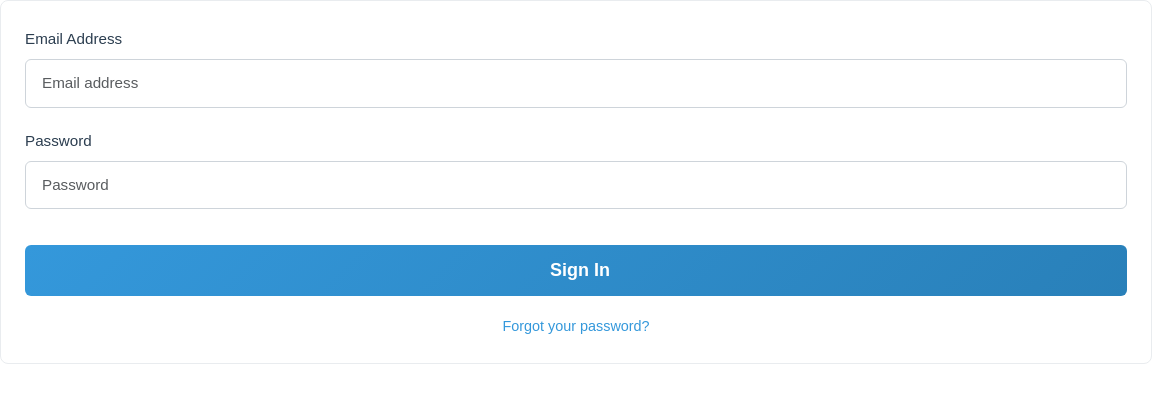
Test: UserLogin › shows error message when login fails
Type "test@example.com" into the field labelled "Email Address" at (576, 83), box [25, 59, 1127, 108]
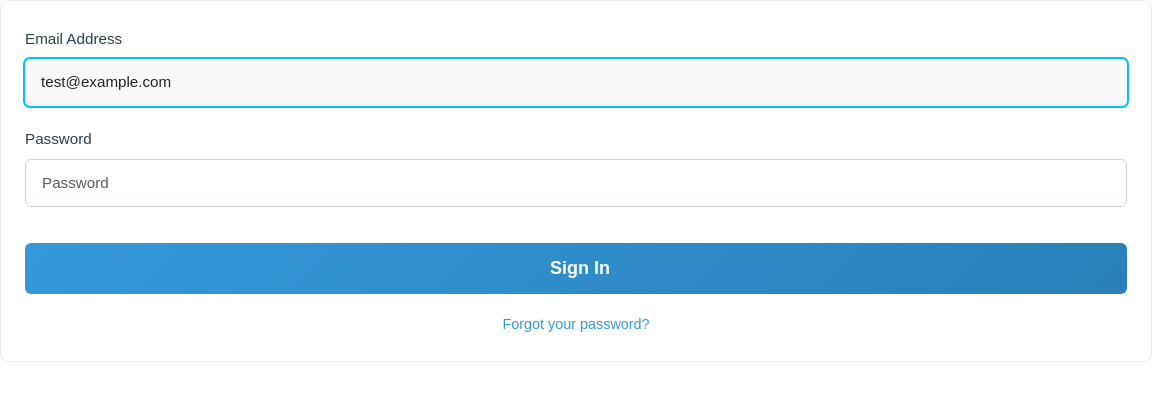
Type "wrongpassword" into the password field labelled "Password" at (576, 183), box [25, 159, 1127, 207]
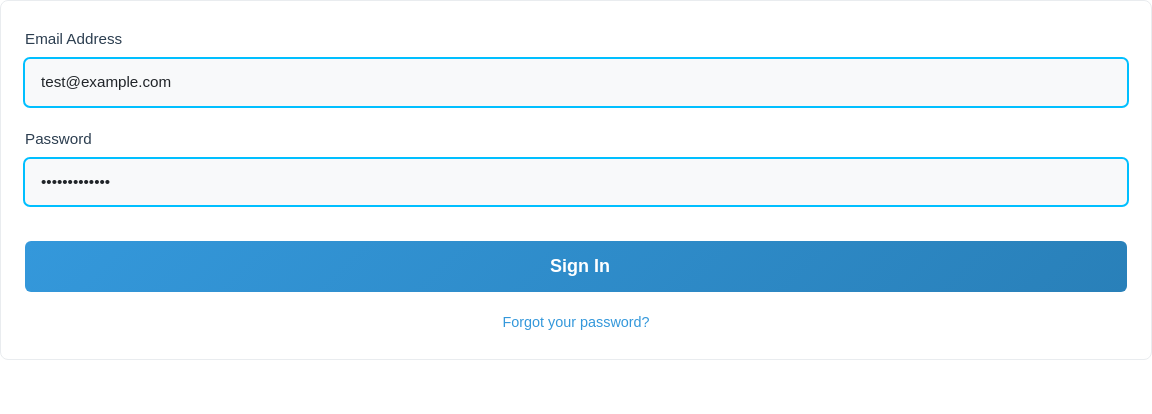
Click the button "Sign In" at (576, 266), box [25, 240, 1127, 292]
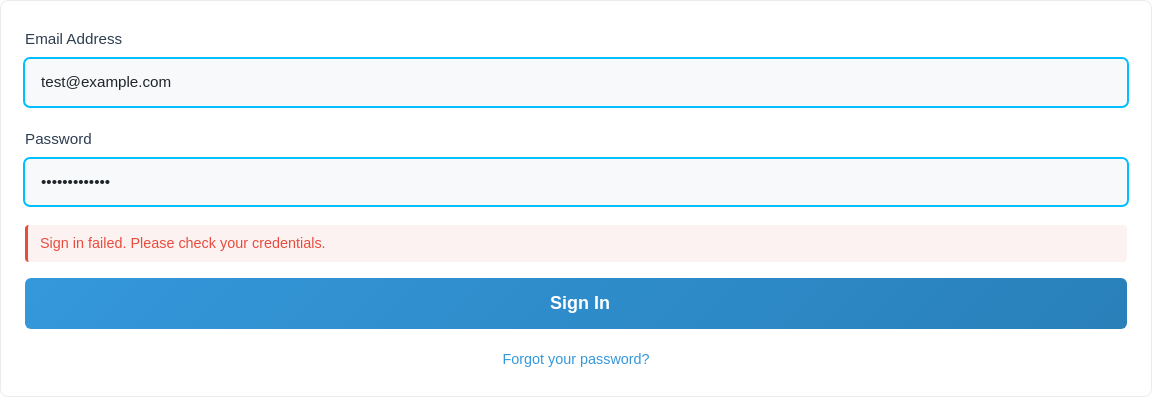
Expected: the text "Sign in failed. Please check your credentials." is shown, [25, 224, 1127, 262]
